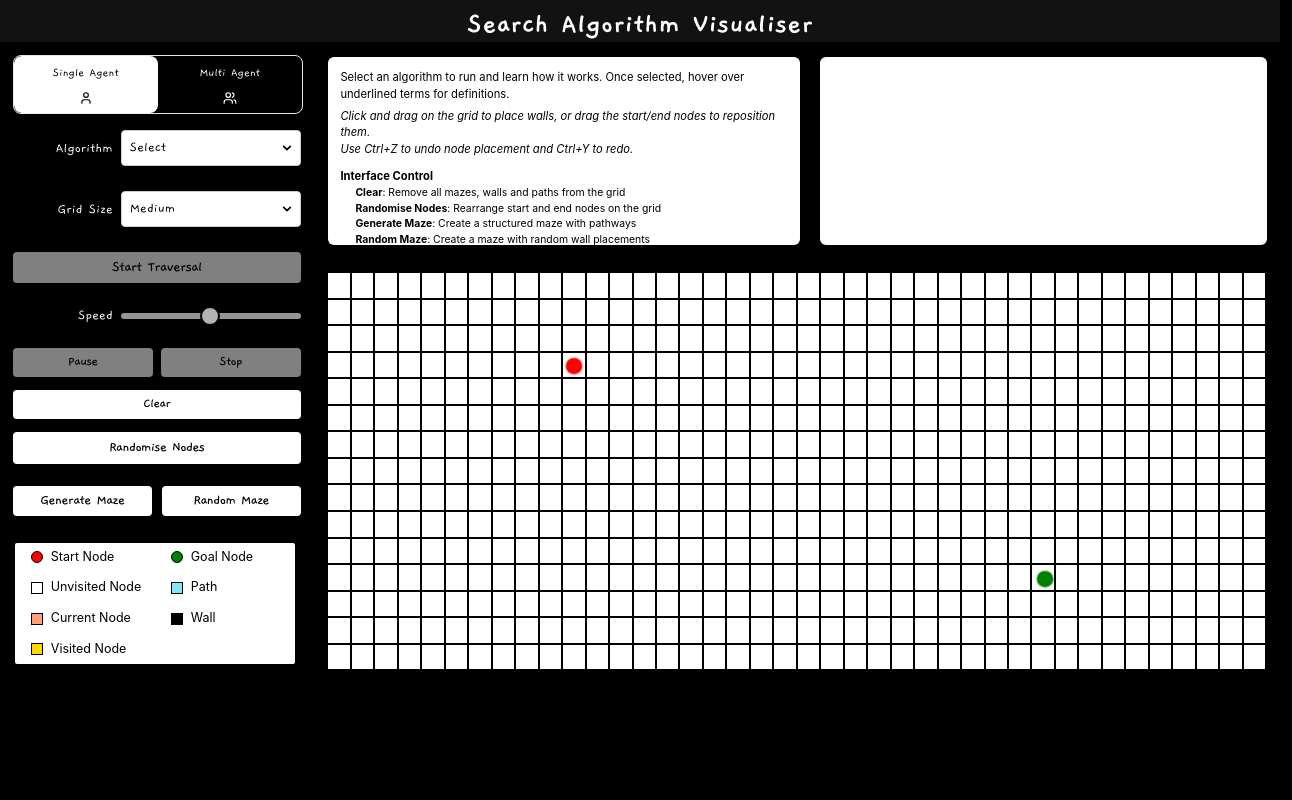
Test: Algorithm Visualizer › Multi-Agent Mode › selects a multi-agent algorithm with proper state handling
The width and height of the screenshot is (1292, 800).
Expected: the header with id "app-header" is shown, left=0, top=0, right=1280, bottom=42
Click the button "Multi Agent". click: (230, 85)
box: left=158, top=56, right=302, bottom=113
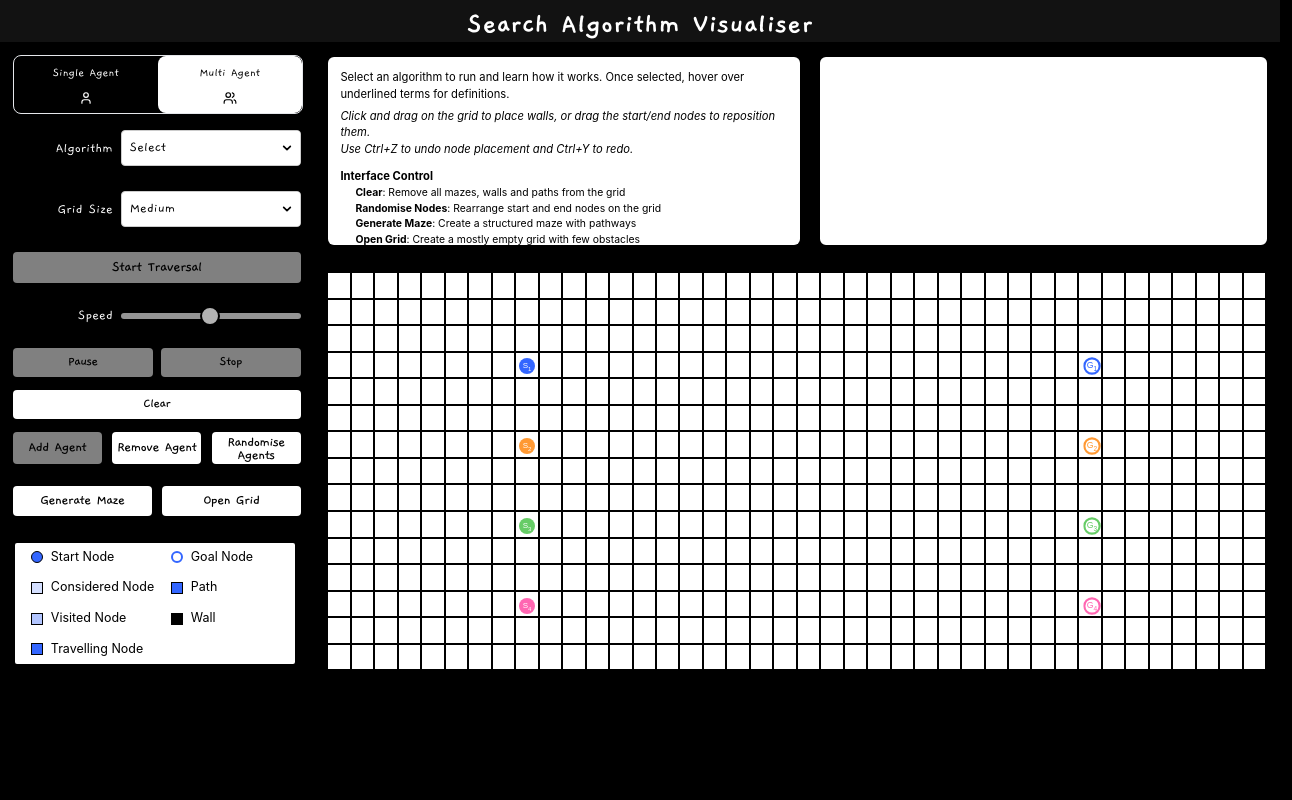
Select "Conflict-Based Search" in the dropdown with id "algorithm". click: (211, 148)
box: left=121, top=130, right=301, bottom=166
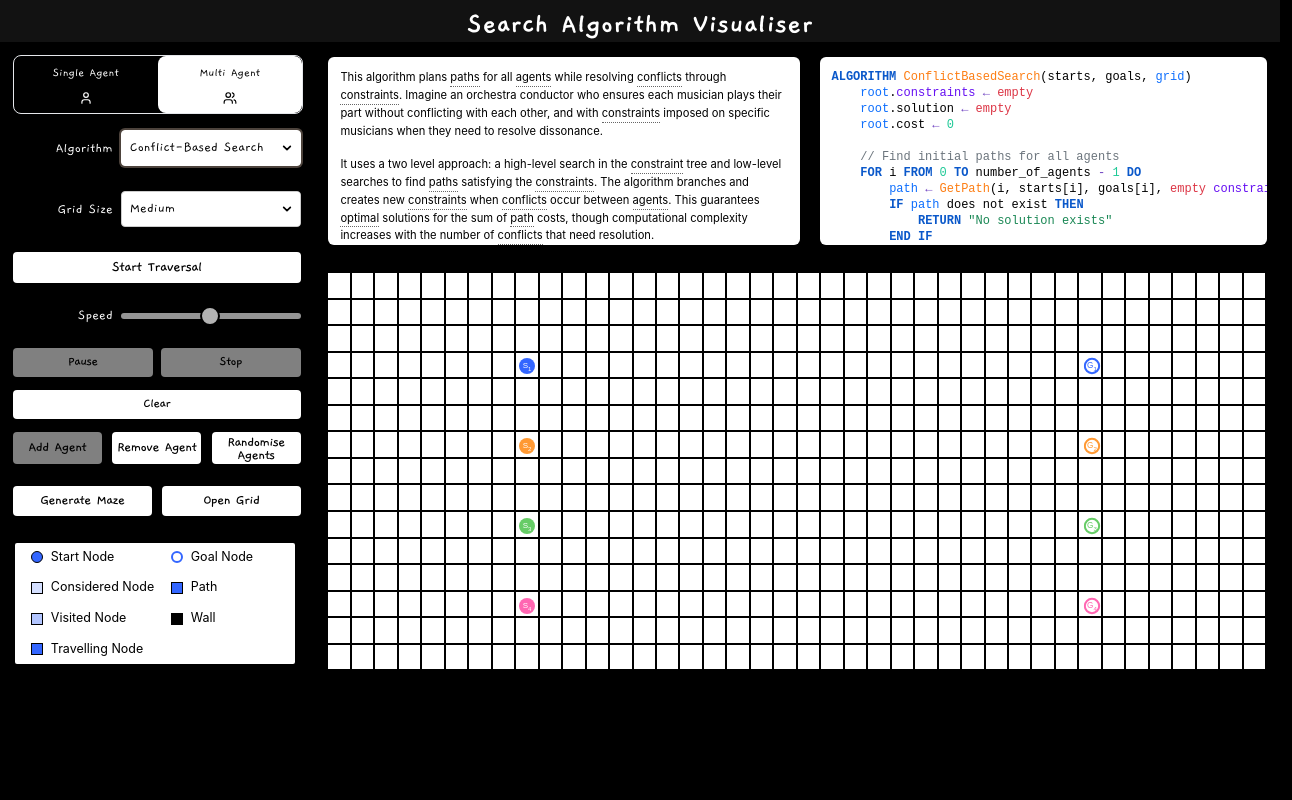
Result: the 1st element showing "constraints" is shown at left=340, top=87, right=399, bottom=105
